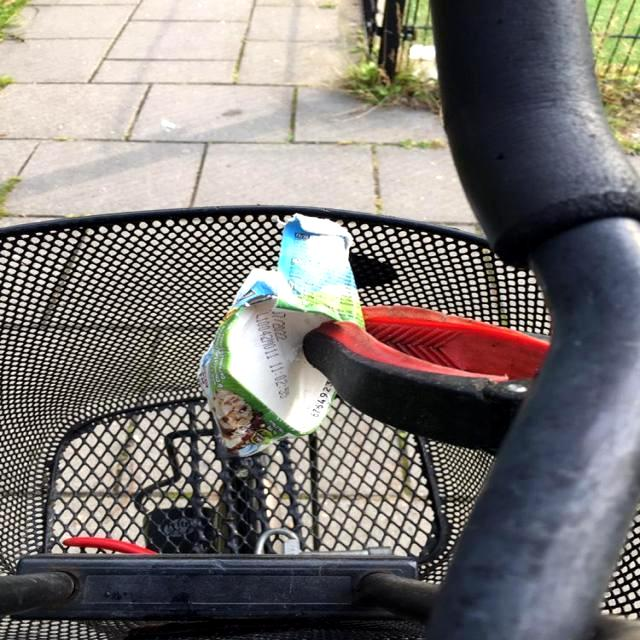Paper: (196, 209, 370, 461)
